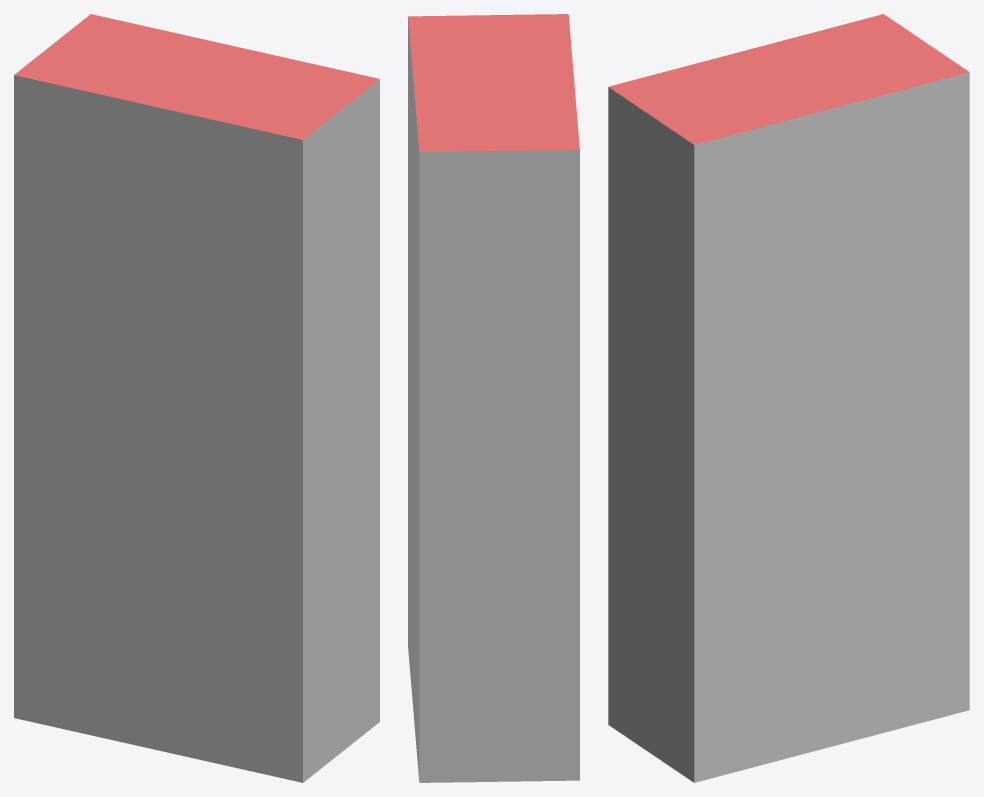
3 renders of one model, left to right at view 1: azimuth 30°, elevation 25°; view 2: azimuth 150°, elevation 25°; view 3: azimuth 270°, elevation 25°, orthographic.
Visible parts, largest first — view 1: Z_UP; view 2: Z_UP; view 3: Z_UP.
Part boxes in pixels (left/top/right/bottom): Z_UP: left=14, top=14, right=379, bottom=782; Z_UP: left=408, top=14, right=579, bottom=782; Z_UP: left=608, top=14, right=969, bottom=782.
Size of the model in its own units: 5.72 by 13 by 6.68.
